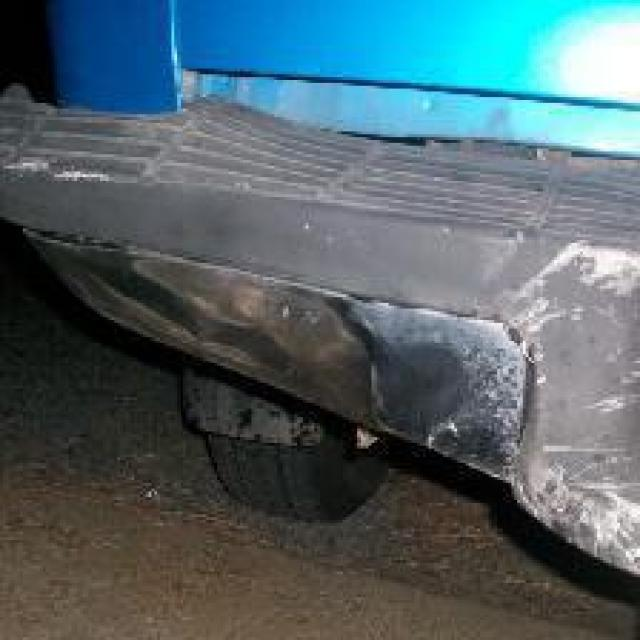damaged: (20, 217, 637, 577)
